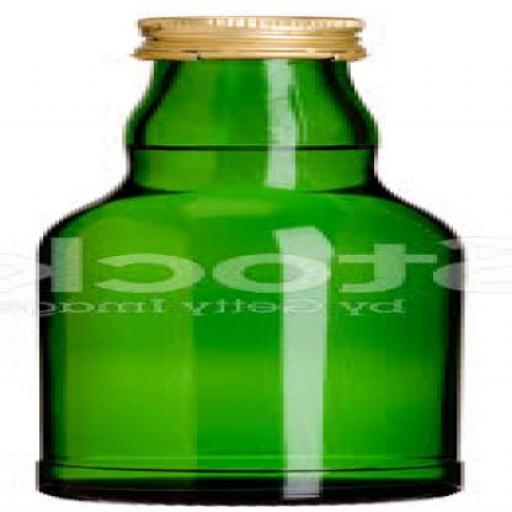glass: (40, 56, 466, 504)
metal: (134, 12, 371, 57)
